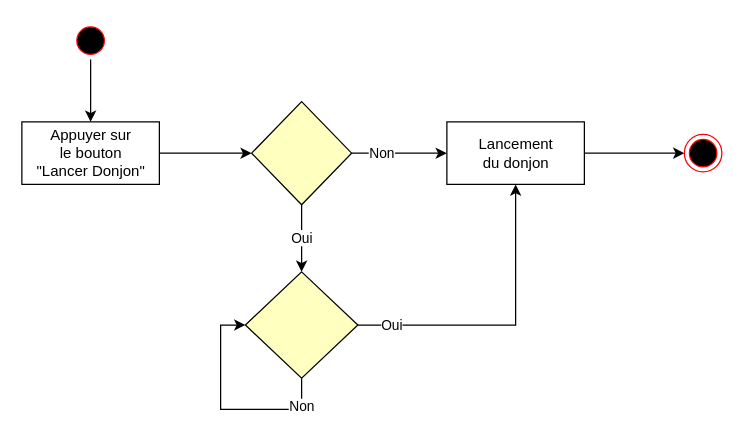
Some shapes in this 744 by 441 pixel diagram are drawn without their labels. The shapes that lost their labels are listed below. From the top down, each one's box as (x1, y1, x2, y2) in pixels, then its label:
(250, 100, 352, 205): Multijoueur en ligne
(244, 271, 358, 378): Tous les utilisateurs ont lancer le donjon
